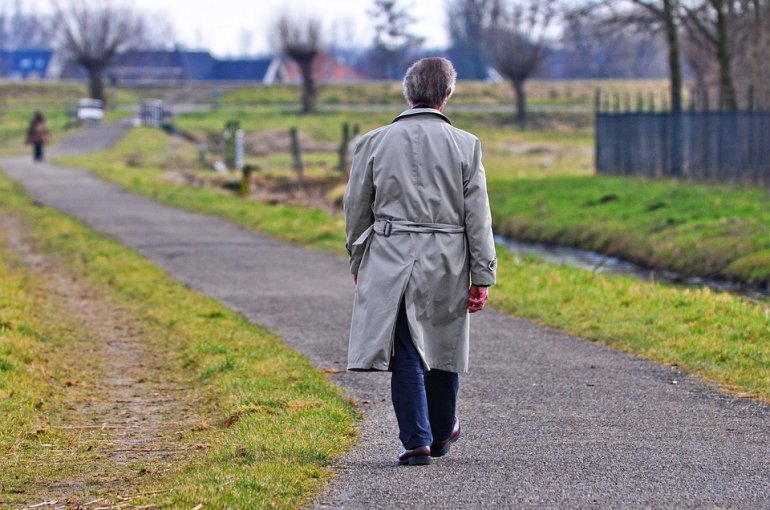feet: (381, 393, 467, 470)
